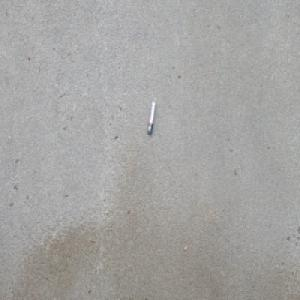Battery: (146, 101, 155, 135)
